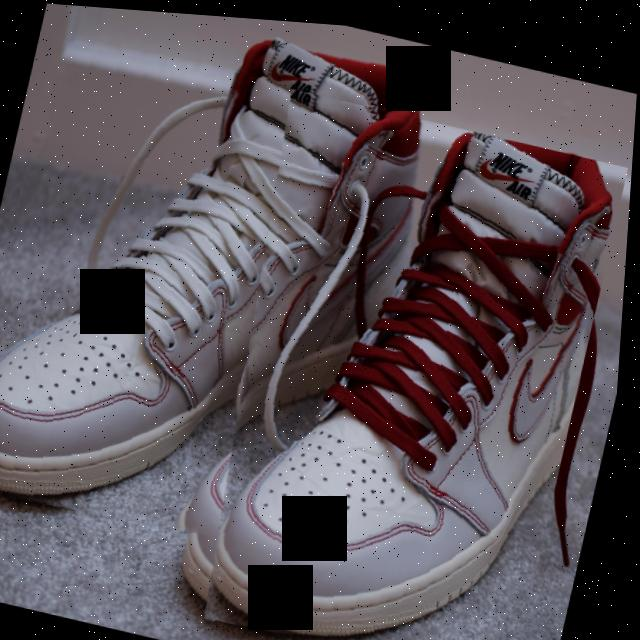shoe: (179, 79, 632, 640), (0, 0, 399, 563)
